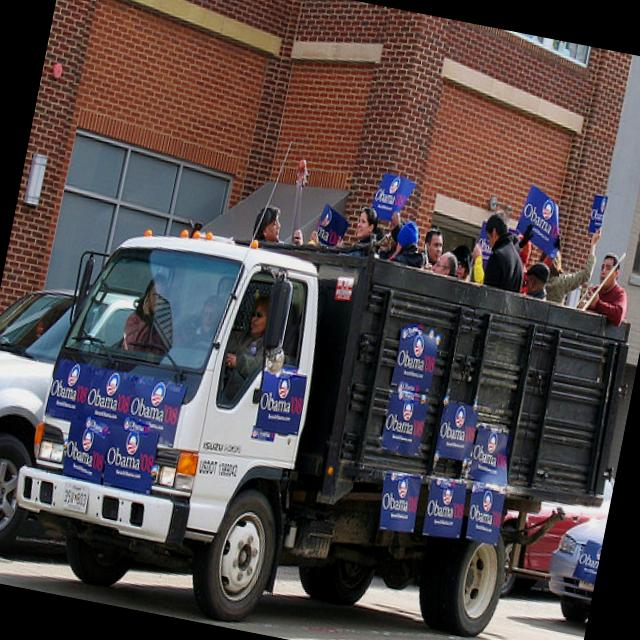Vehicle: (0, 191, 640, 640), (490, 446, 618, 616), (0, 276, 77, 547), (534, 452, 618, 624)
